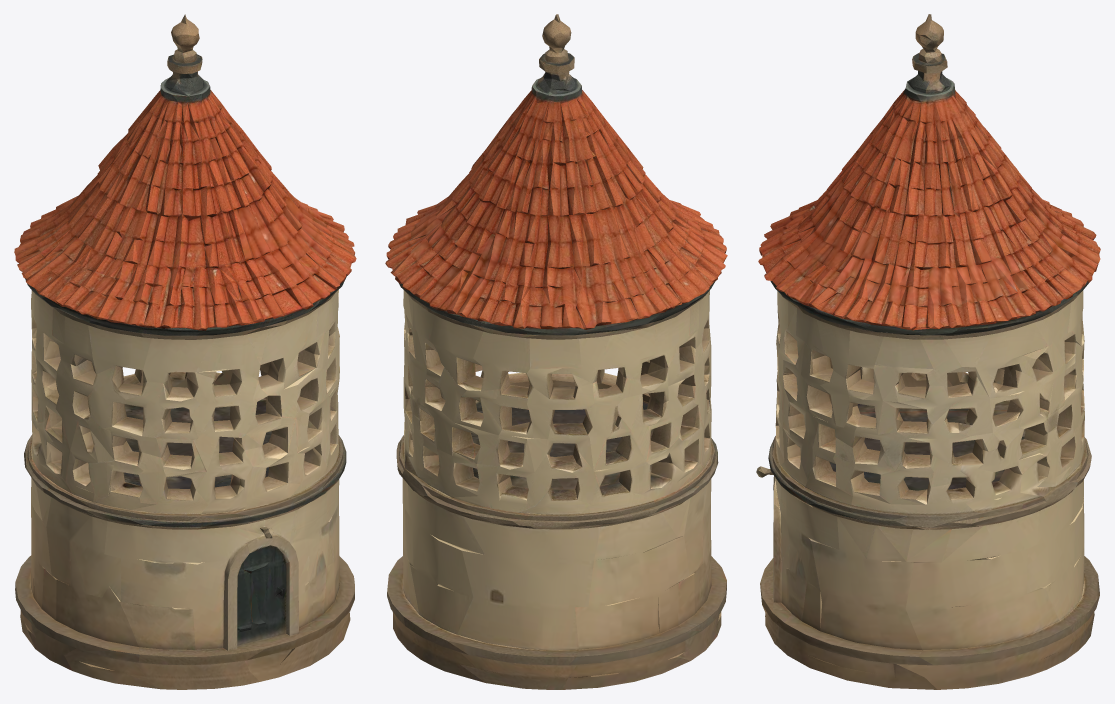
The model's file is dovecote.glb.
3 renders of one model, left to right at view 1: azimuth 30°, elevation 25°; view 2: azimuth 150°, elevation 25°; view 3: azimuth 270°, elevation 25°, orthographic.
Parts seen in each view (by area): view 1: dovecote; view 2: dovecote; view 3: dovecote.
Part boxes in pixels (x1,y1,x2,y2): dovecote: (14, 14, 356, 689); dovecote: (385, 14, 727, 689); dovecote: (756, 14, 1100, 689).
Bounding box in the file's own units: 2.32 × 4.5 × 2.32.
Materials: 1 (1 with a texture image).
